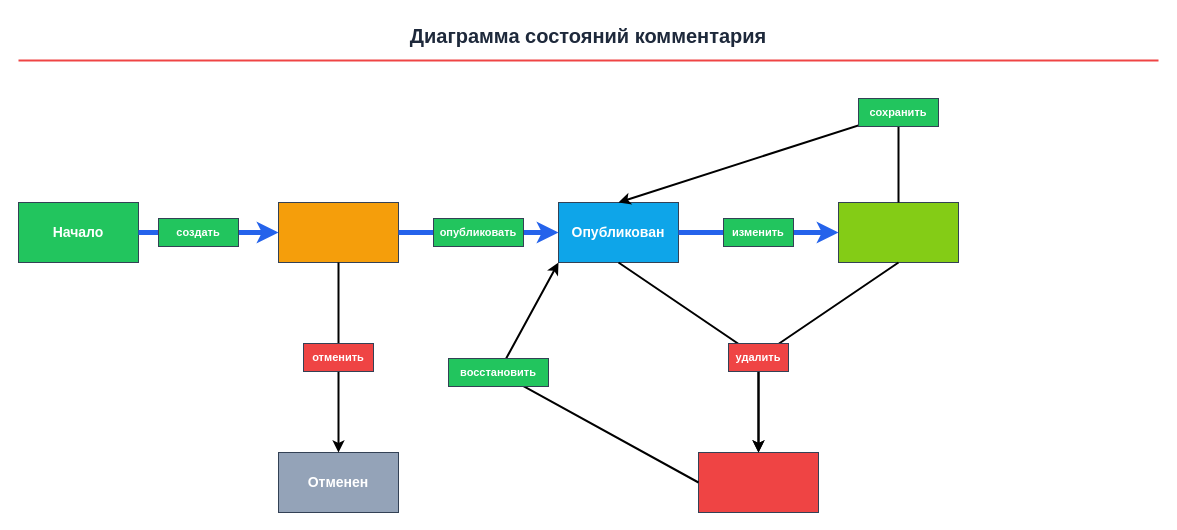
Image size: 1177x530. Some labels were removed from this diagram. The shapes that lost their labels are listed below. From the top down, each one's centre as x and y in pixels, then its label:
At (338,232): "Создан".
At (898,232): "Изменен".
At (758,482): "Удален".
